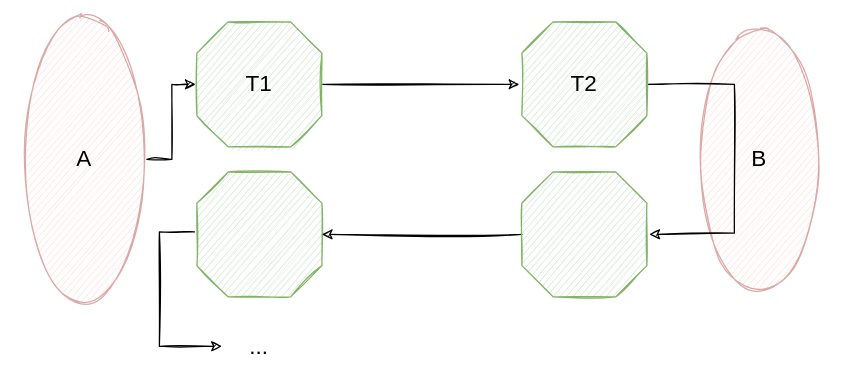
The diagram is 844 pixels wide and 386 high, and some of its shapes have lost their labels. Here are the shapes that lost their labels. From the top down, the centre of each, then its label:
point 259,234: T4
point 584,234: T3
